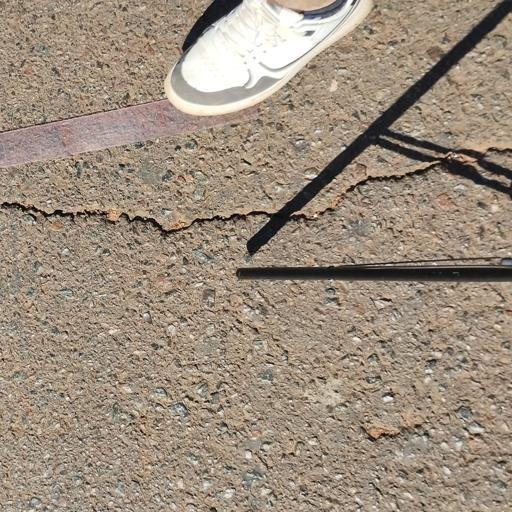GRIETA: (288, 148, 511, 223), (0, 201, 267, 236)
